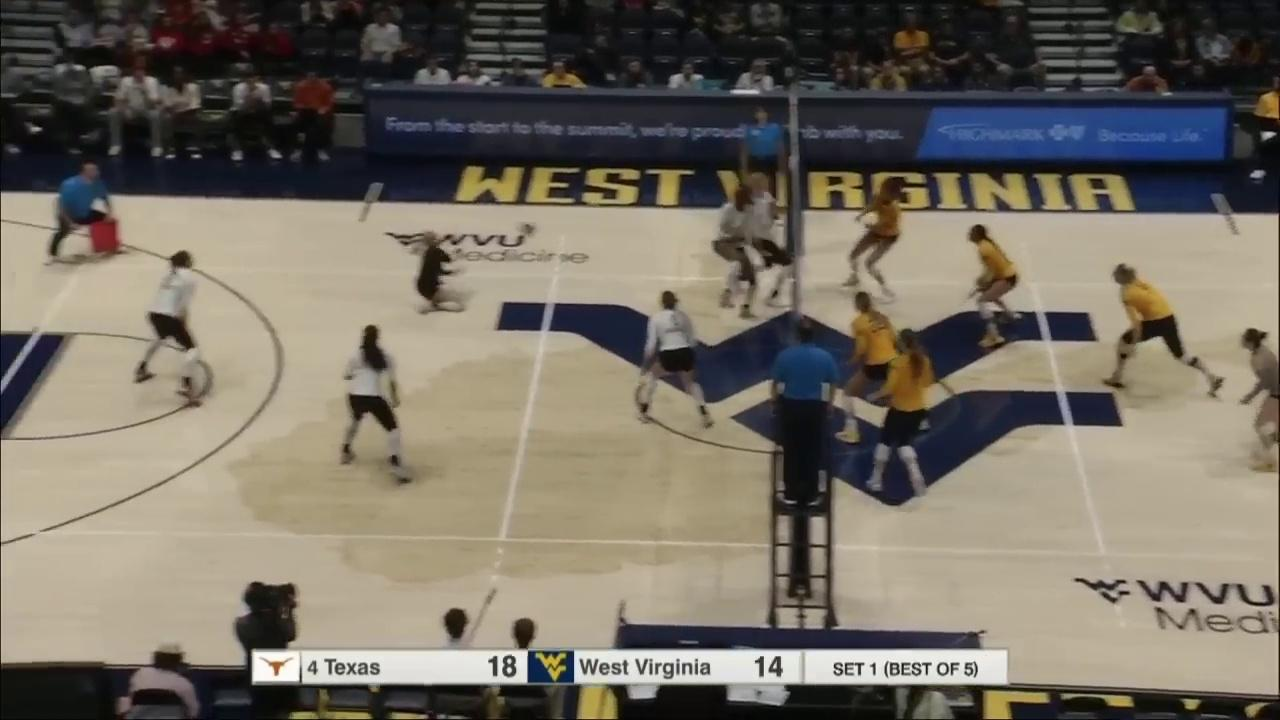player: (1100, 266, 1225, 399), (839, 286, 926, 443), (129, 250, 208, 401), (863, 326, 931, 495), (339, 325, 411, 482), (632, 291, 711, 428), (732, 172, 793, 309), (842, 178, 908, 301), (965, 226, 1025, 349), (1236, 328, 1280, 475), (712, 189, 758, 317), (415, 231, 477, 315)
refree: (776, 319, 837, 504), (43, 162, 125, 266), (739, 106, 790, 224)
